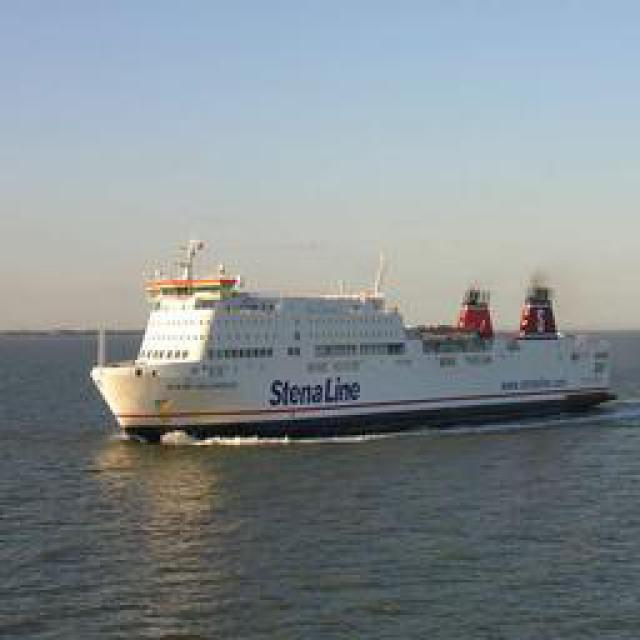Ship: (91, 241, 609, 441)
